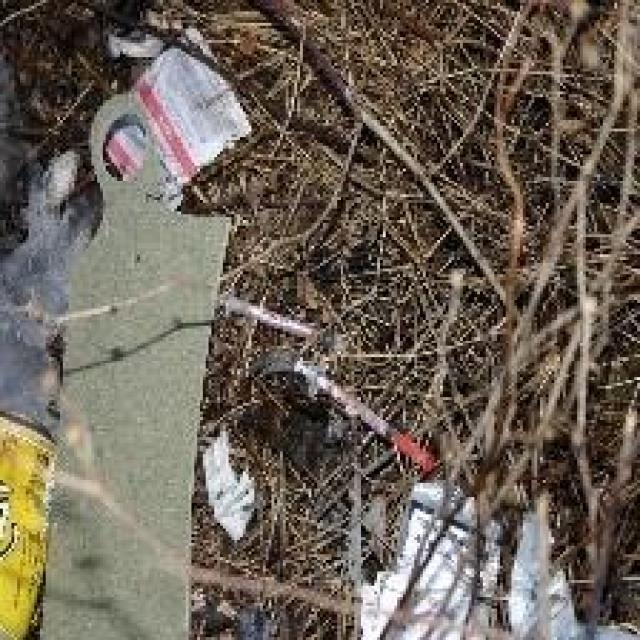syringe: (200, 272, 442, 471)
